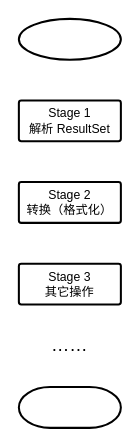
The diagram is 139 pixels wide and 446 high, and some of its shapes have lost their labels. The shapes that lost their labels are listed below. From the top down, each one's box as (x1, y1, x2, y2) in pixels, then its label:
(17, 17, 121, 60): Data Source
(17, 386, 121, 428): Sink 存储
